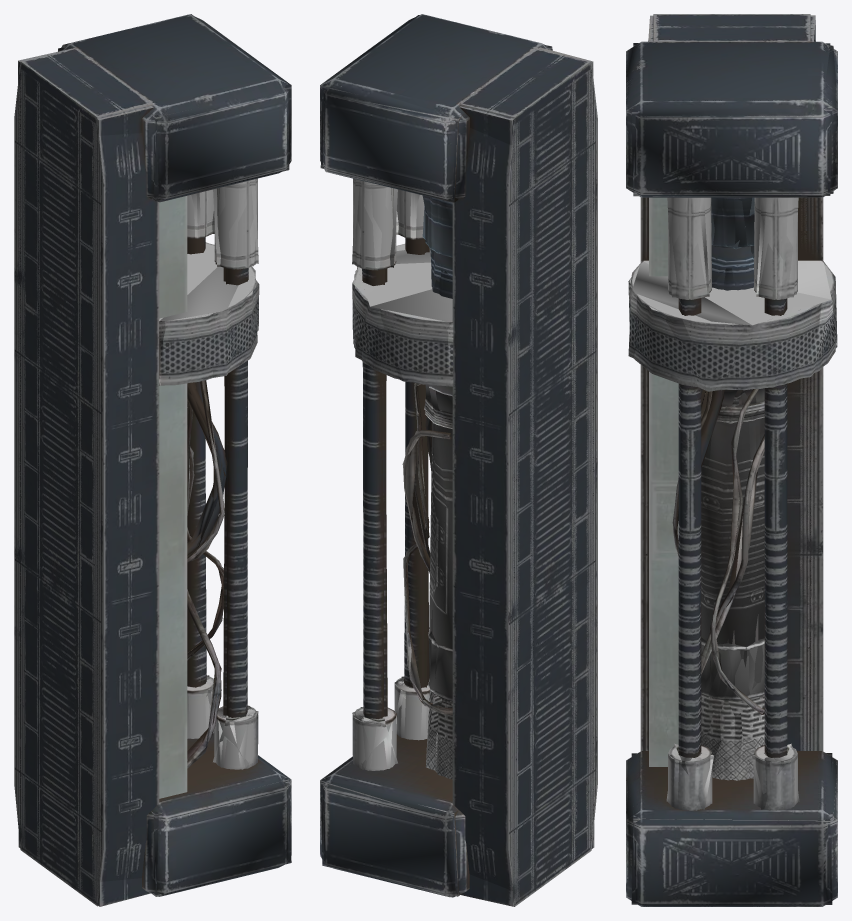
Rendered from sm_structure04.glb.
3 views of the same model, side by side, from view 1: azimuth 30°, elevation 25°; view 2: azimuth 150°, elevation 25°; view 3: azimuth 270°, elevation 25° (orthographic). The views are drawn at different scales.
Visible parts, largest first — view 1: sm_structure04_00; view 2: sm_structure04_00; view 3: sm_structure04_00.
Boxes of the visible parts, x1=… form: sm_structure04_00: x1=14, y1=14, x2=291, y2=906; sm_structure04_00: x1=320, y1=14, x2=597, y2=906; sm_structure04_00: x1=626, y1=14, x2=837, y2=906.
Size of the model in its own units: 1 by 4 by 0.9536.
Materials: 1 (1 with a texture image).
